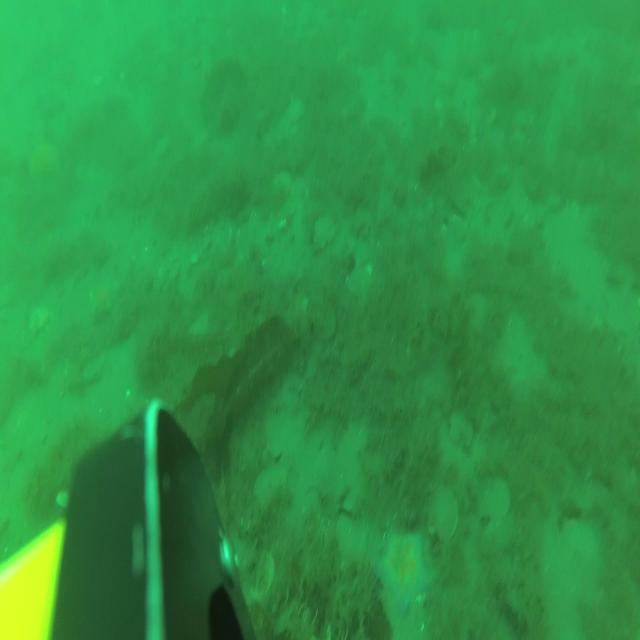scallop: (424, 480, 460, 541), (475, 473, 511, 532), (253, 458, 290, 512), (448, 406, 475, 450), (312, 213, 336, 252)
starfish: (374, 518, 435, 616), (26, 136, 62, 190)
